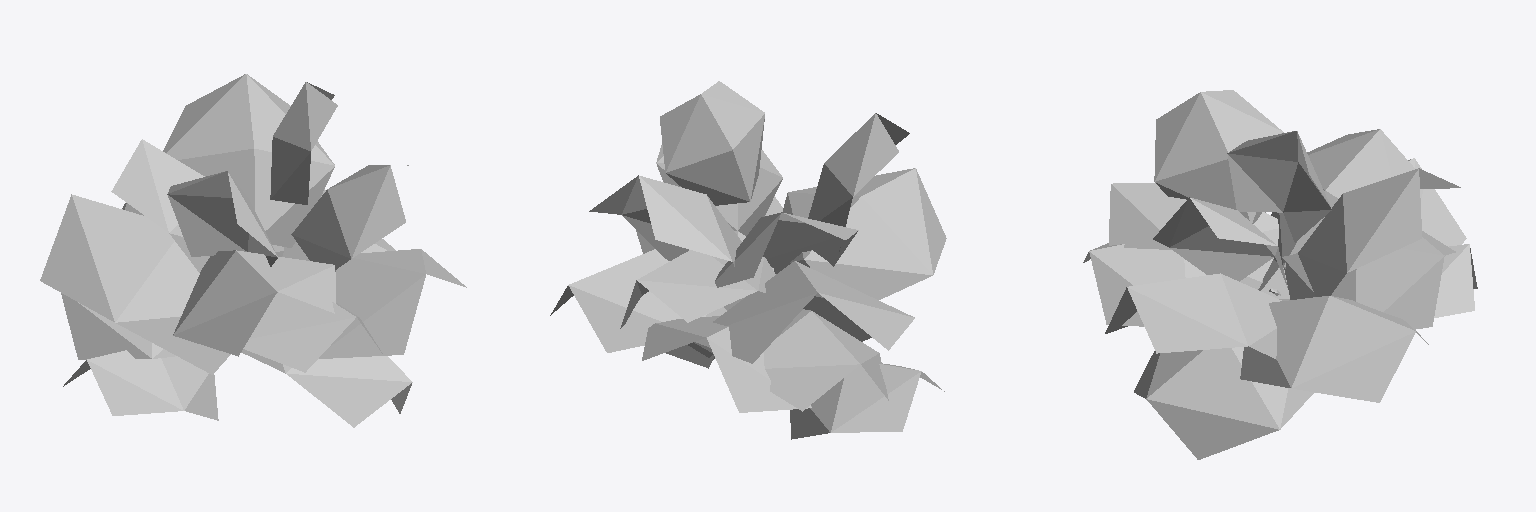
Rendered from pruned_leaf01.obj.
3 renders of one model, left to right at view 1: azimuth 30°, elevation 25°; view 2: azimuth 150°, elevation 25°; view 3: azimuth 270°, elevation 25°, orthographic.
Parts seen in each view (by area): view 1: polySurface46.001_Untitled.005; view 2: polySurface46.001_Untitled.005; view 3: polySurface46.001_Untitled.005.
Boxes of the visible parts, <box> form: polySurface46.001_Untitled.005: <box>40,74,466,427</box>; polySurface46.001_Untitled.005: <box>550,81,946,439</box>; polySurface46.001_Untitled.005: <box>1083,90,1477,459</box>.
Bounding box in the file's own units: 11.57 × 10.12 × 11.77.